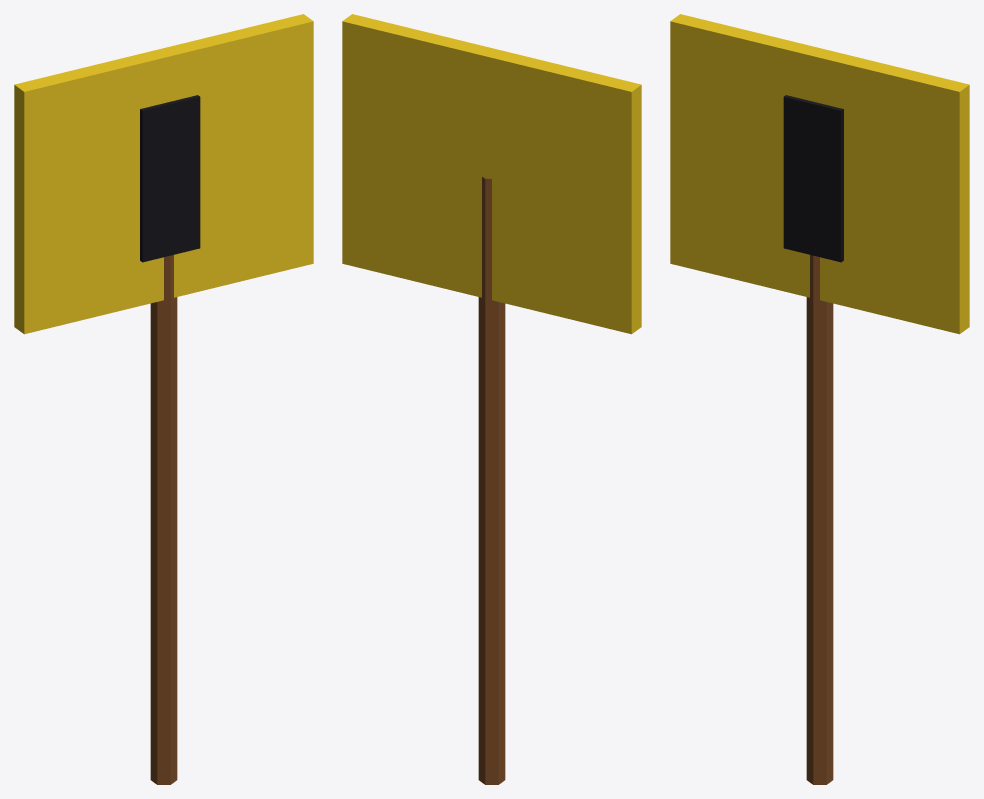
The model's file is warning_sign.glb.
3 renders of one model, left to right at view 1: azimuth 30°, elevation 25°; view 2: azimuth 150°, elevation 25°; view 3: azimuth 330°, elevation 25°, orthographic.
Visible parts, largest first — view 1: warning_sign; view 2: warning_sign; view 3: warning_sign.
Part boxes in pixels (x1,y1,x2,y2): warning_sign: (14, 14, 313, 784); warning_sign: (342, 14, 641, 784); warning_sign: (670, 14, 969, 784).
Size of the model in its own units: 0.5 by 1.2 by 0.0425.
